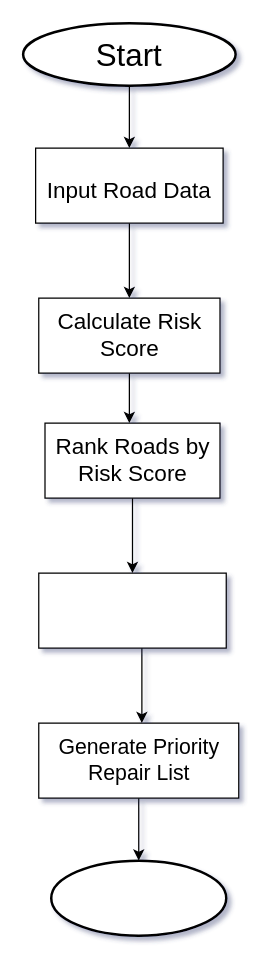
This 268x965 diagram has some shape labels left out. Each missing label, with the box of its shape:
Apply Budget Constraint: (38, 572, 226, 648)
End: (49, 859, 227, 936)
